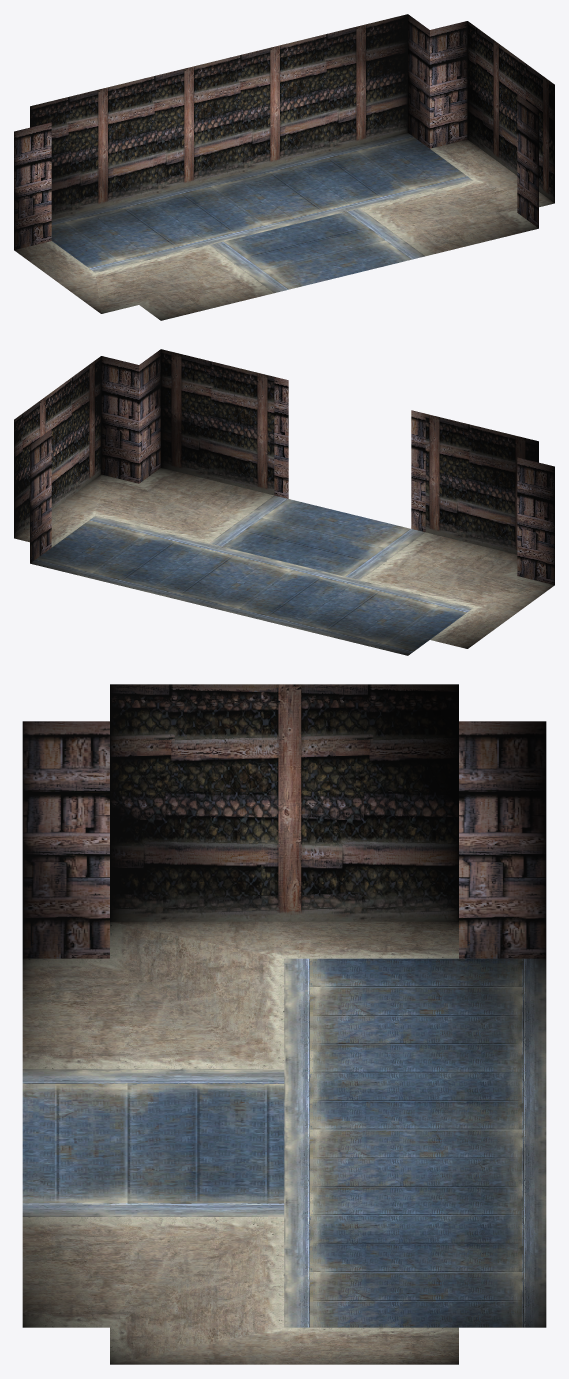
The picture shows the model from 3 angles, top to bottom: view 1: azimuth 30°, elevation 25°; view 2: azimuth 150°, elevation 25°; view 3: azimuth 270°, elevation 25°; orthographic projection. The views are drawn at different scales.
Parts seen in each view (by area): view 1: M09_Z05_05; view 2: M09_Z05_05; view 3: M09_Z05_05.
Boxes of the visible parts, x1,y1,x2,y2 form: M09_Z05_05: [14, 14, 554, 320]; M09_Z05_05: [14, 349, 554, 655]; M09_Z05_05: [22, 684, 546, 1364].
Bounding box in the file's own units: 12 × 3 × 6.
5 materials, 5 textured.
